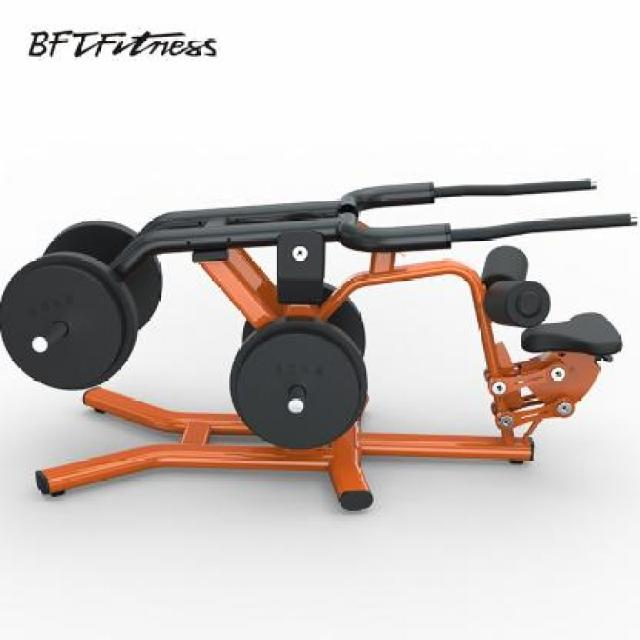seated dip machine: (0, 177, 640, 514)
